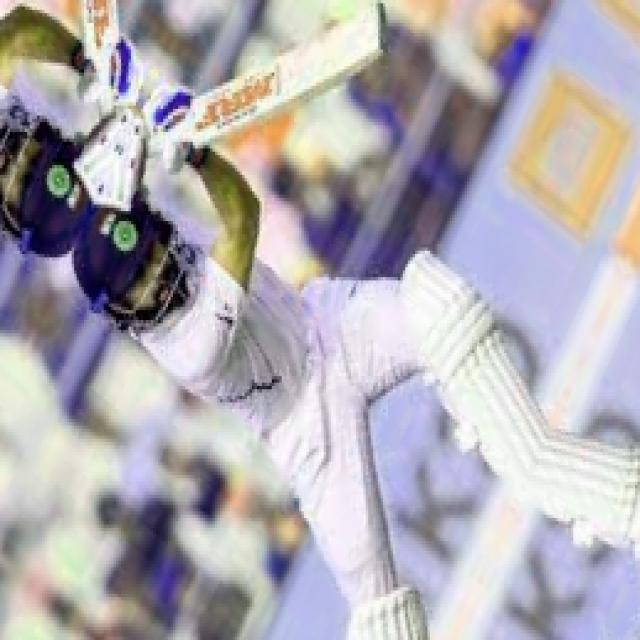toe: (331, 3, 396, 84)
